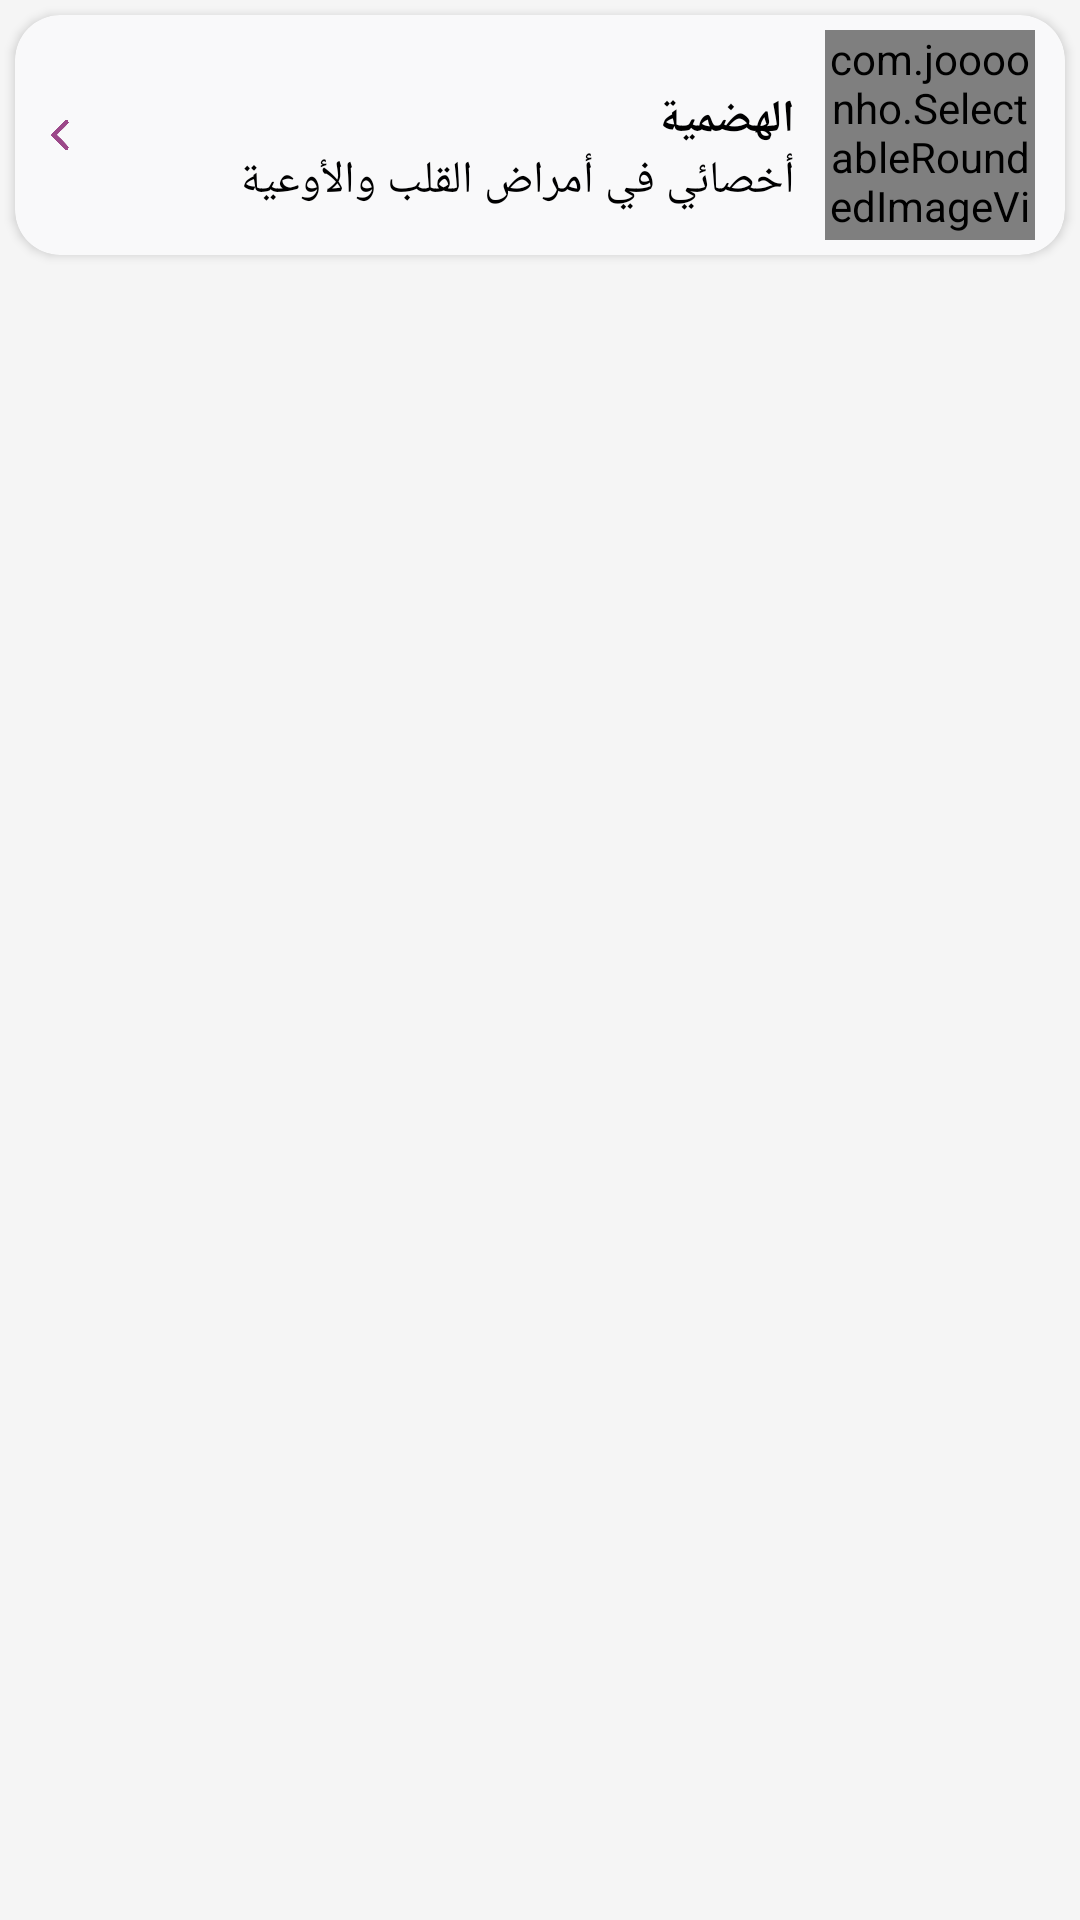

Icons on this 1080 × 1920 Android screen, each with its box as (x1, y1, x2, y2):
arrow: (51, 120, 69, 150)
